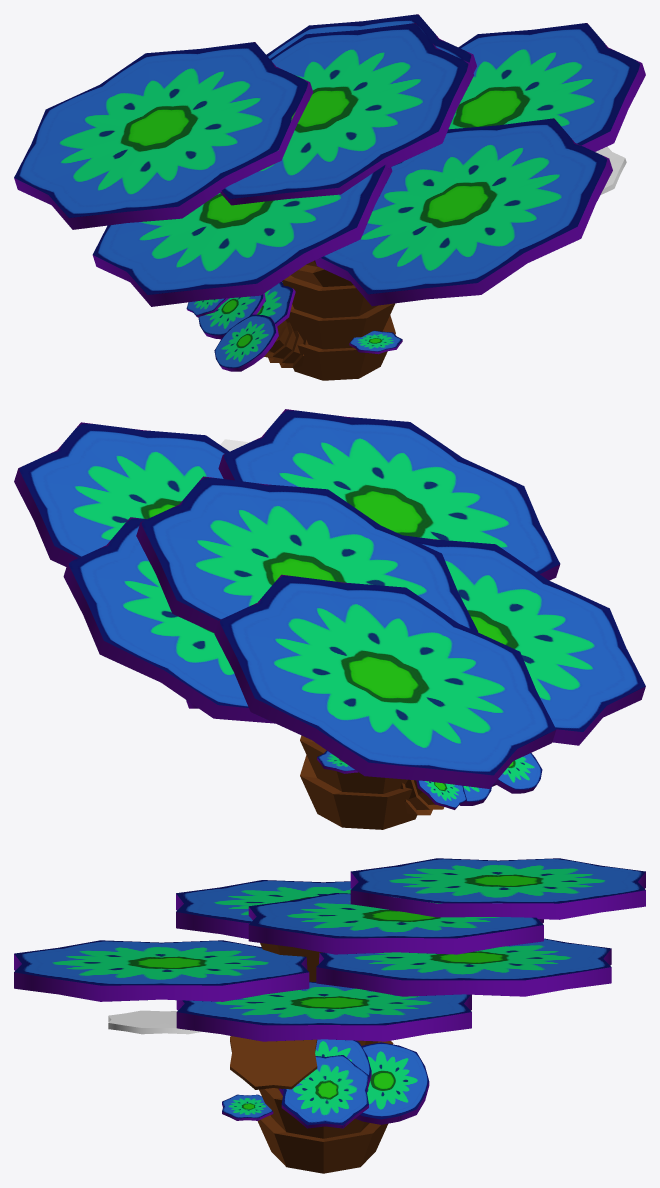
Rendered from fungusoriginbottom.fbx.
3 views of the same model, one above another, from view 1: azimuth 30°, elevation 25°; view 2: azimuth 150°, elevation 25°; view 3: azimuth 270°, elevation 25° (orthographic). The views are drawn at different scales.
Visible parts, largest first — view 1: fungusplant; view 2: fungusplant; view 3: fungusplant.
Boxes of the visible parts, bbox=[...] form: fungusplant: bbox=[14, 14, 645, 380]; fungusplant: bbox=[14, 409, 645, 829]; fungusplant: bbox=[14, 858, 645, 1173].
Size of the model in its own units: 12.25 by 6.11 by 12.09.
3 materials, 1 textured.
